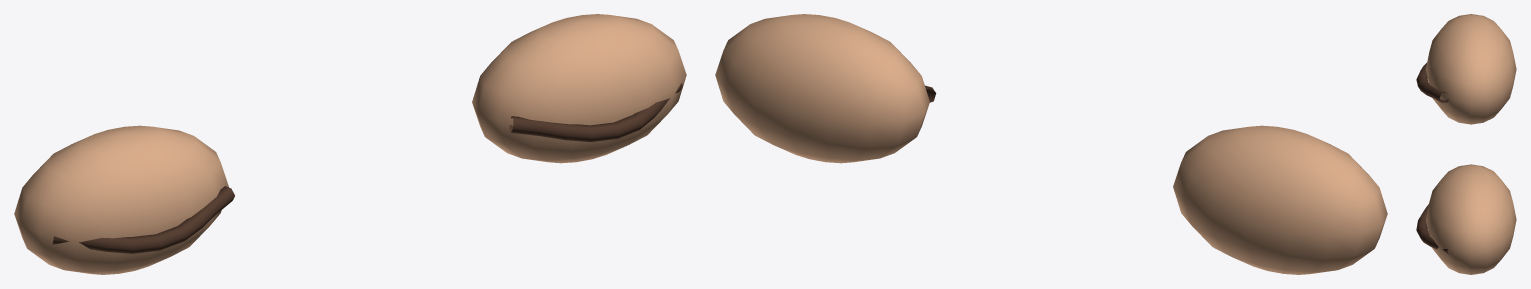
The model's file is closed_eyes.glb.
The picture shows the model from 3 angles, left to right: view 1: azimuth 30°, elevation 25°; view 2: azimuth 150°, elevation 25°; view 3: azimuth 270°, elevation 25°; orthographic projection. The views are drawn at different scales.
Visible parts, largest first — view 1: closed_eyes_mesh; view 2: closed_eyes_mesh; view 3: closed_eyes_mesh.
Part boxes in pixels (box(x1,y1,x2,y2)): closed_eyes_mesh: box(14, 14, 686, 274); closed_eyes_mesh: box(715, 14, 1387, 274); closed_eyes_mesh: box(1416, 14, 1516, 274).
Bounding box in the file's own units: 0.136 × 0.026 × 0.0265.
